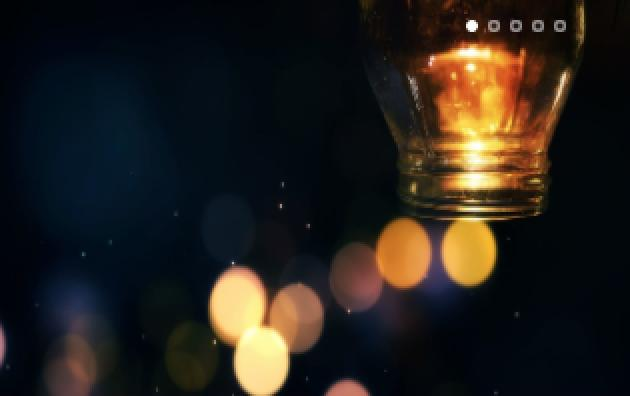ImgView: (1, 1, 629, 395)
